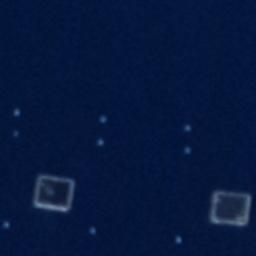square_cover: (29, 170, 80, 215), (205, 185, 253, 229)
